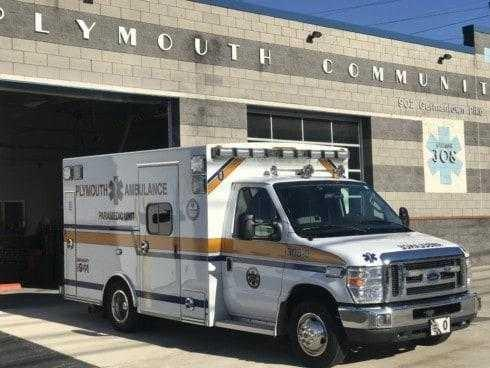car: (59, 141, 481, 366)
